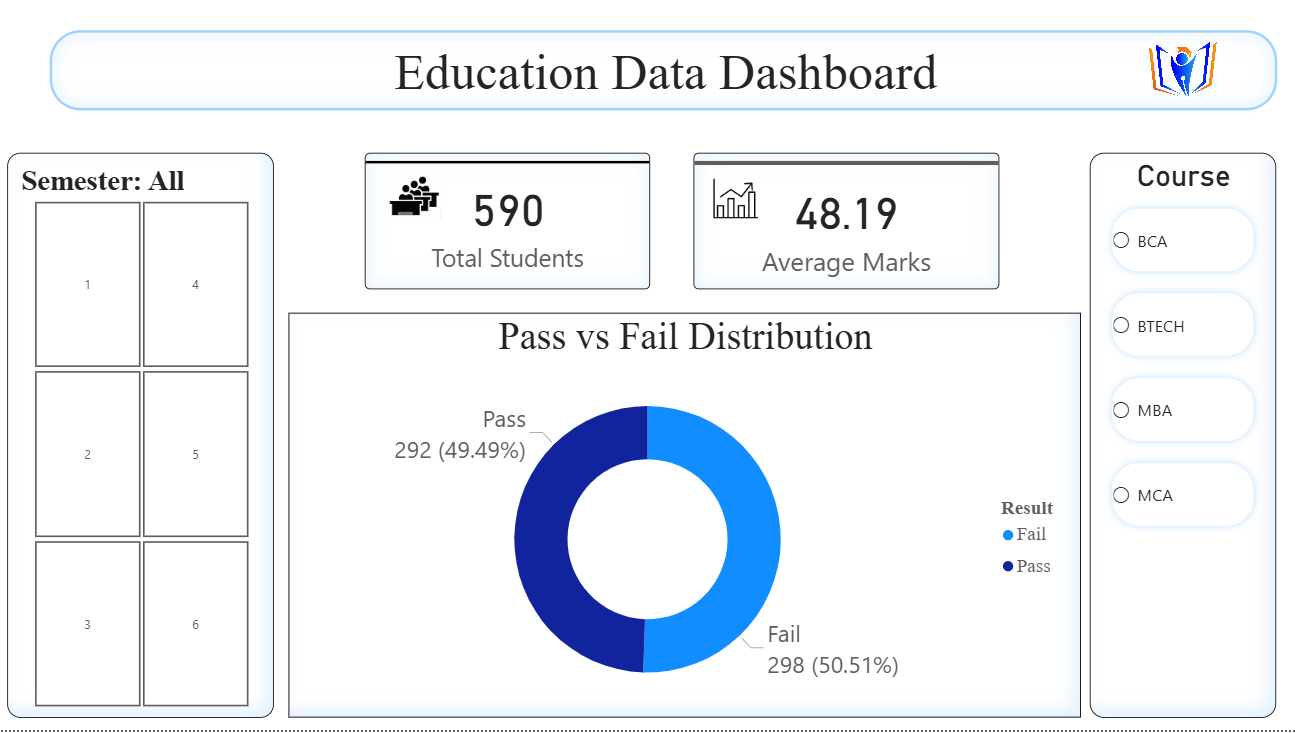

This screenshot's page, from the dashboard's own definition file:
{"tool":"powerbi","page":{"name":"Page 1","canvas":[1280,720],"ordinal":0},"visuals":[{"type":"card","fields":{"Values":["Sheet1.Total Students"]},"box":[360.6,155.4,279.4,134],"z":0},{"type":"donutChart","title":"Pass vs Fail Distribution","fields":{"Category":["Sheet1.Result"],"Y":["CountNonNull(Sheet1.StudentID)"]},"box":[286.1,311.8,775.3,396.2],"z":1000},{"type":"card","fields":{"Values":["Sheet1.Average Marks"]},"box":[682.8,155.4,299.3,134],"z":2000},{"type":"listSlicer","fields":{"Values":["Sheet1.Course"]},"box":[1070.3,155.1,182.5,553],"z":3000},{"type":"slicer","fields":{"Values":["Sheet1.Semester"]},"box":[11.4,155.4,260.8,553.1],"z":4000},{"type":"textbox","title":"Education Data Dashboard","box":[52.1,35.7,1200.7,78.2],"z":5000},{"type":"image","box":[1122.6,42.8,77,62.4],"z":6000},{"type":"image","box":[371.7,172.4,74.6,50.1],"z":7000},{"type":"image","box":[682.3,172.4,81.9,55],"z":8000}]}

Visuals, with their boxes in screenshot pixels (x1, y1, x2, y2), scaled from the page's 1280x720 canvas onto the 1295x733 screenshot:
card - Sheet1.Total Students: bbox(365, 158, 648, 295)
"Pass vs Fail Distribution" donutChart: bbox(289, 317, 1074, 721)
card - Sheet1.Average Marks: bbox(691, 158, 994, 295)
listSlicer - Sheet1.Course: bbox(1083, 158, 1267, 721)
slicer - Sheet1.Semester: bbox(12, 158, 275, 721)
"Education Data Dashboard" textbox: bbox(53, 36, 1267, 116)
image: bbox(1136, 44, 1214, 107)
image: bbox(376, 176, 452, 227)
image: bbox(690, 176, 773, 232)
